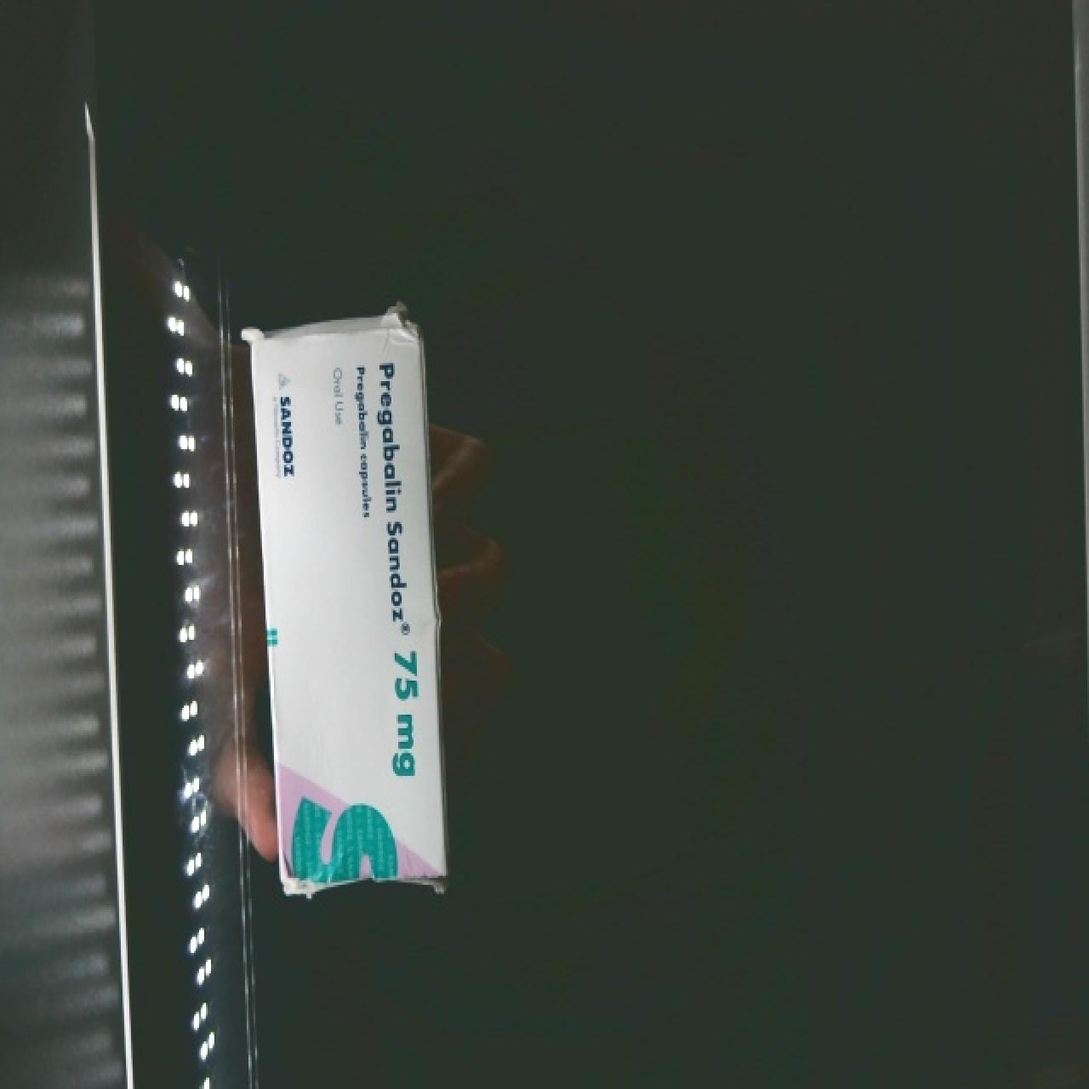medicine_label_obb: (349, 336, 435, 649)
